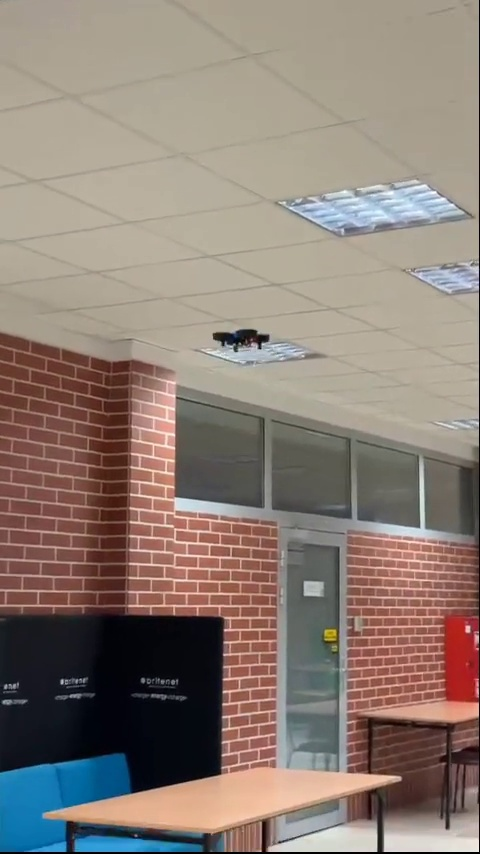drone: (212, 326, 267, 351)
